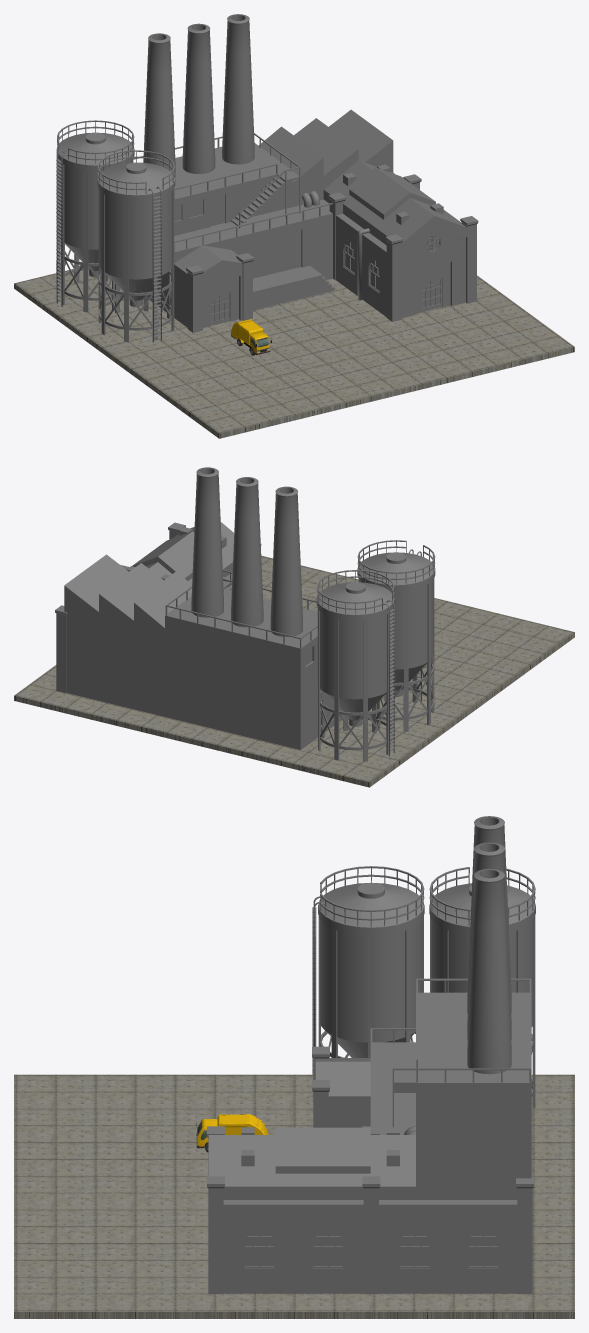
The model's file is Recycling building.fbx.
3 renders of one model, top to bottom at view 1: azimuth 30°, elevation 25°; view 2: azimuth 150°, elevation 25°; view 3: azimuth 270°, elevation 25°, orthographic. The views are drawn at different scales.
Parts seen in each view (by area): view 1: Plane001, Cube_Cube_001, Cylinder, Cylinder_003, Cylinder_005_Cylinder_008, Cube_001_Cube_002, Cube_022_Cube, Cube_025_Cube_029, Cylinder05, Cube_023_Cube_016, Cube_026_Cube_030, Cube_004_Cube_005 (+3 smaller); view 2: Cube_Cube_001, Plane001, Cylinder, Cylinder_005_Cylinder_008, Cylinder_003, Cube_025_Cube_029, Cube_022_Cube, Cube_001_Cube_002, Cube_026_Cube_030, Cube_004_Cube_005, Cylinder_006_Cylinder_009; view 3: Plane001, Cube_Cube_001, Cylinder_003, Cylinder, Cube_001_Cube_002, Cylinder_005_Cylinder_008, Cube_022_Cube, Cube_025_Cube_029, Cylinder05, Cube_004_Cube_005, Cube_015_Cube_020, Cube_017_Cube_019.
Boxes of the visible parts, x1,y1,x2,y2 form: Plane001: (14,269,574,438); Cube_Cube_001: (149,109,467,329); Cylinder: (143,14,254,177); Cylinder_003: (97,150,175,330); Cylinder_005_Cylinder_008: (56,120,134,300); Cube_001_Cube_002: (186,174,478,332); Cube_022_Cube: (98,189,174,342); Cube_025_Cube_029: (57,160,133,312); Cylinder05: (231,319,271,355); Cube_023_Cube_016: (153,196,161,337); Cube_026_Cube_030: (56,159,62,301); Cube_004_Cube_005: (133,133,300,228); Cube_Cube_001: (64,522,342,749); Plane001: (14,555,574,787); Cylinder: (191,467,302,636); Cylinder_005_Cylinder_008: (316,570,394,750); Cylinder_003: (357,540,435,720); Cube_025_Cube_029: (318,609,393,761); Cube_022_Cube: (358,579,434,731); Cube_001_Cube_002: (55,522,261,692); Cube_026_Cube_030: (388,609,394,750); Cube_004_Cube_005: (165,570,317,639); Cylinder_006_Cylinder_009: (383,600,394,756); Plane001: (14,1074,574,1318); Cube_Cube_001: (208,992,531,1293); Cylinder_003: (318,866,424,1057); Cylinder: (467,816,511,1074); Cube_001_Cube_002: (207,1046,533,1293); Cylinder_005_Cylinder_008: (429,867,535,1096); Cube_022_Cube: (318,916,423,1057); Cube_025_Cube_029: (430,916,535,1107); Cylinder05: (196,1114,268,1152); Cube_004_Cube_005: (392,978,531,1070); Cube_015_Cube_020: (399,1226,498,1267); Cube_017_Cube_019: (244,1226,343,1267).
Bounding box in the file's own units: 39.37 × 26.06 × 39.37.
